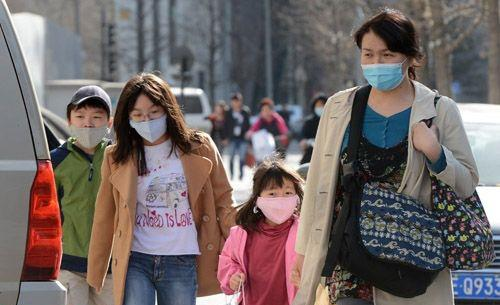NONE: (262, 102, 274, 117), (232, 98, 242, 110), (216, 103, 226, 114)
OK: (360, 43, 404, 87), (128, 101, 168, 141), (260, 181, 299, 220), (315, 101, 328, 117)
WRONG: (71, 108, 108, 145)
